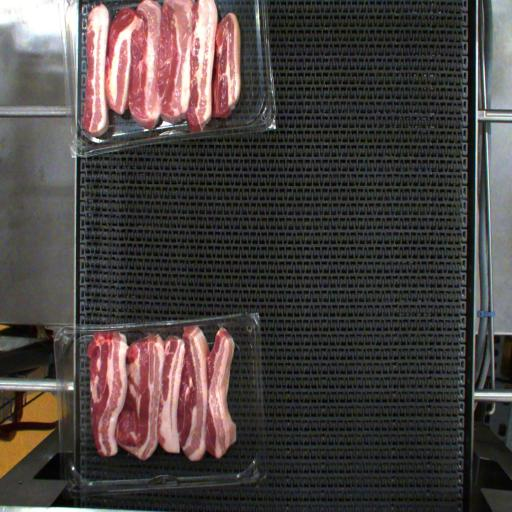packaging-error: (76, 325, 132, 344), (214, 318, 226, 338)
